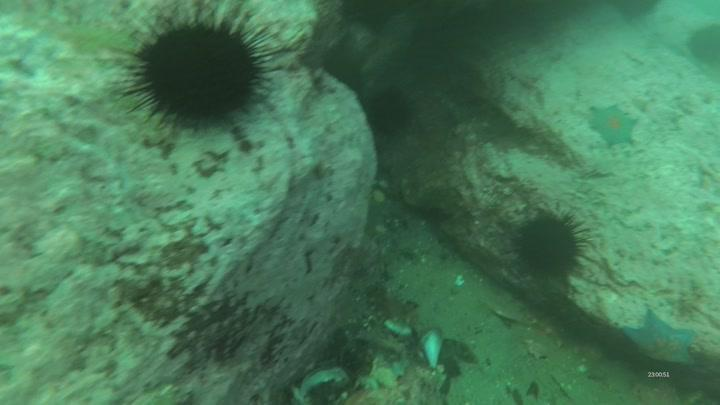urchin: (112, 8, 299, 149), (498, 206, 592, 288)
